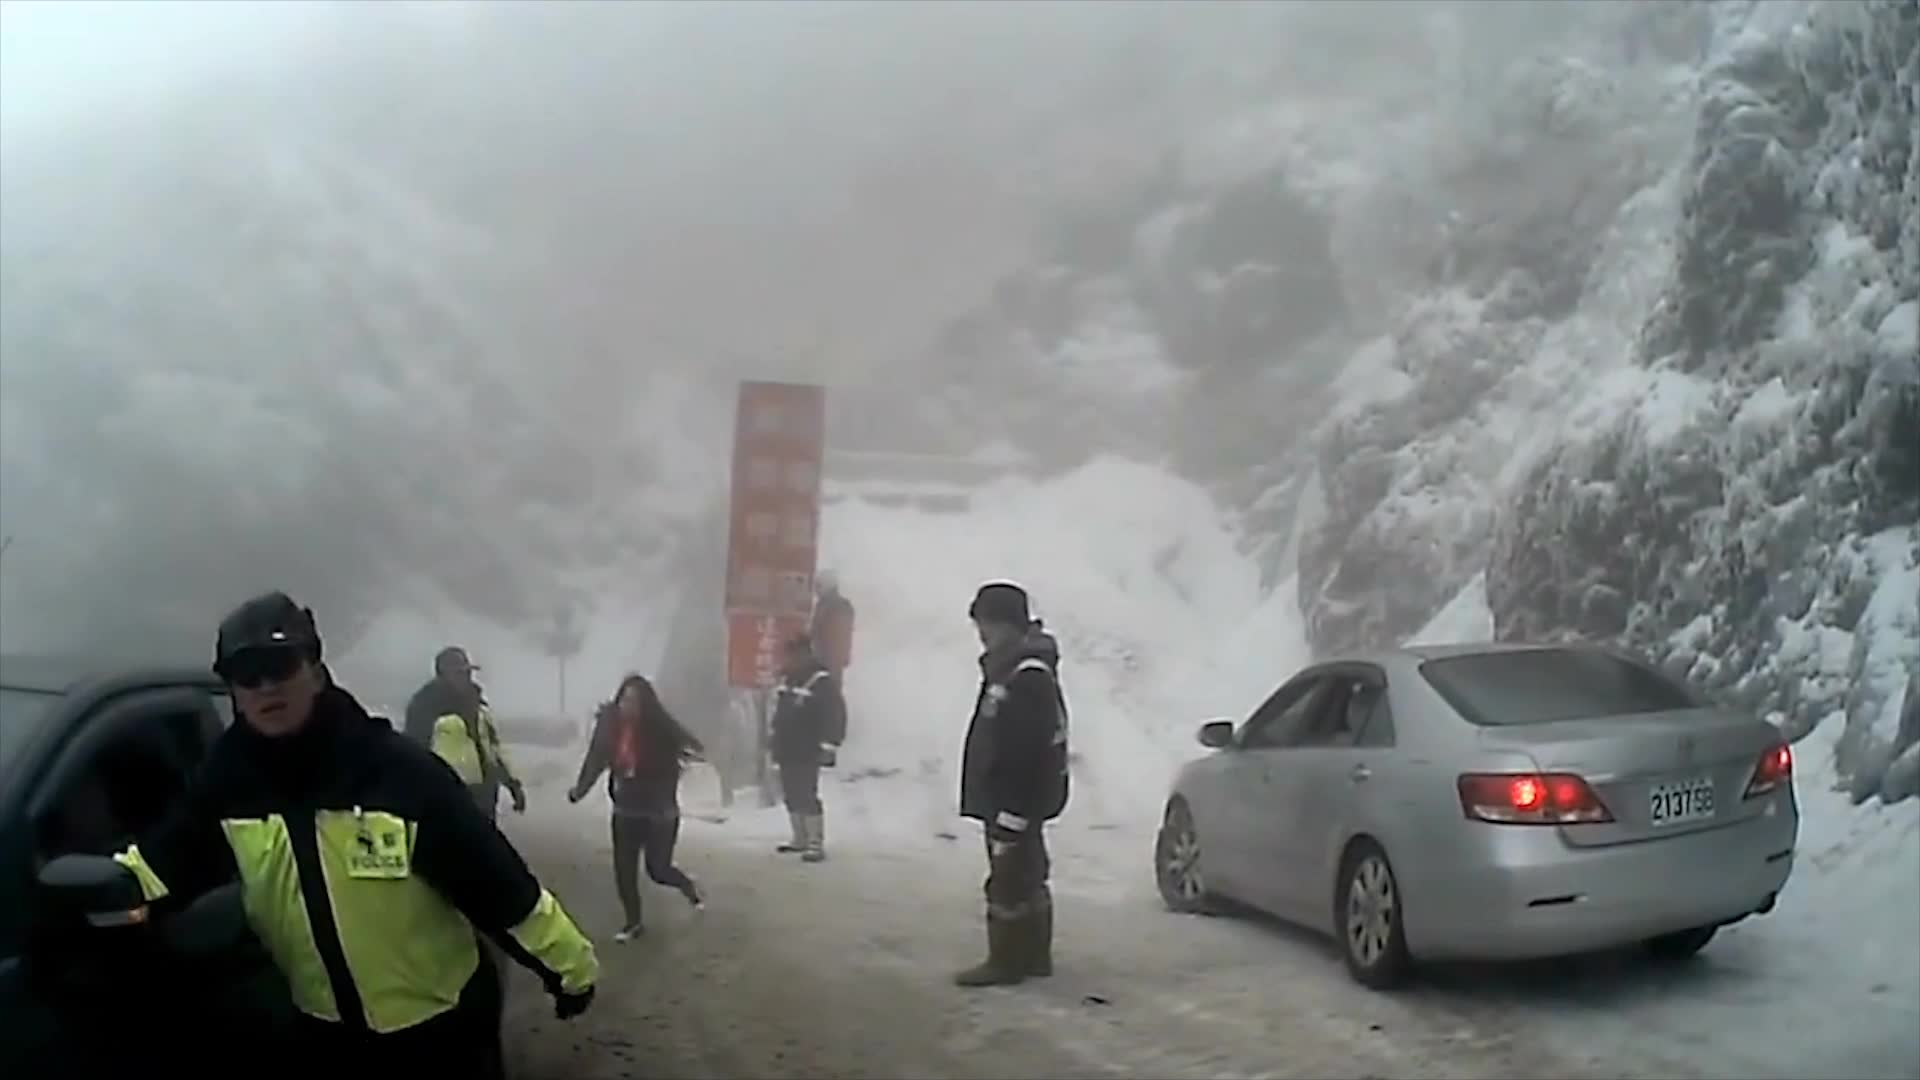pedestrian: (59, 595, 605, 1080), (943, 585, 1074, 987), (561, 673, 713, 943), (395, 644, 523, 929), (765, 639, 848, 864), (806, 565, 867, 756)
vehicle: (1154, 640, 1800, 990), (0, 654, 500, 1079)
